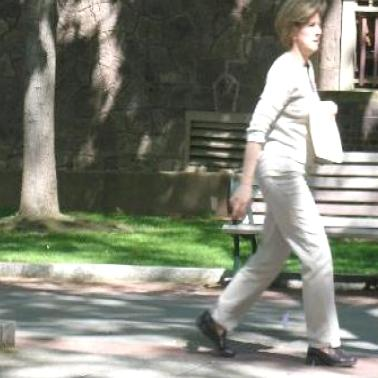ped: (195, 1, 356, 365)
